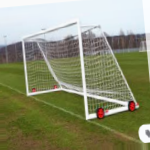goals: (21, 19, 139, 118)
